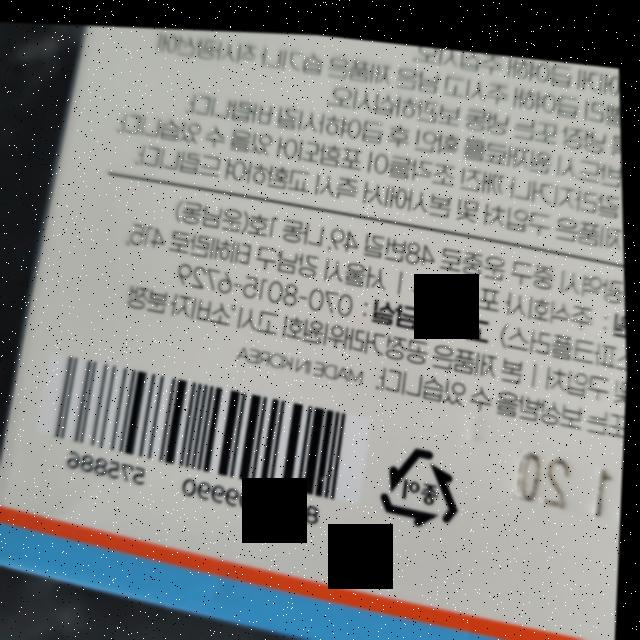Paper: (377, 423, 468, 527)
